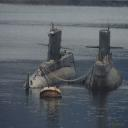submarine: (24, 22, 80, 90), (84, 21, 124, 91)
